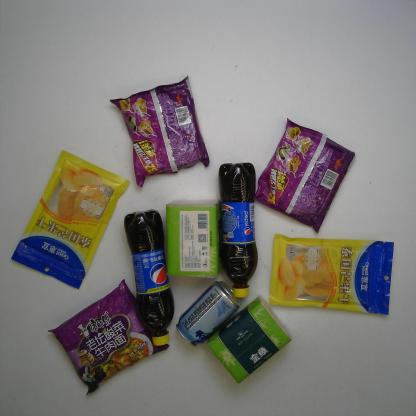Alcohol: (175, 279, 241, 349)
Dried Fruit: (9, 150, 132, 290), (266, 233, 394, 316)
Drink: (121, 209, 173, 347), (218, 162, 258, 299)
Instant Noodles: (47, 277, 172, 395), (253, 118, 356, 234), (110, 74, 208, 188)
Tissue: (204, 295, 295, 383), (164, 197, 222, 279)
